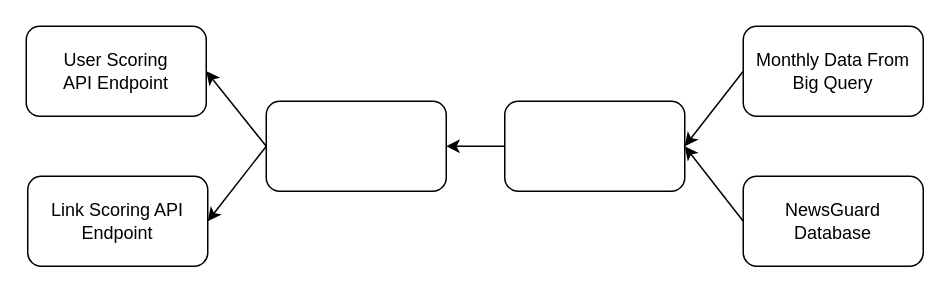
The diagram is 950 pixels wide and 293 high, and some of its shapes have lost their labels. The shapes that lost their labels are listed below. From the top down, each one's box as (x1, y1, x2, y2) in pixels, then its label:
(265, 100, 446, 191): Score Database
(503, 100, 685, 191): Generate User and Link Scores
